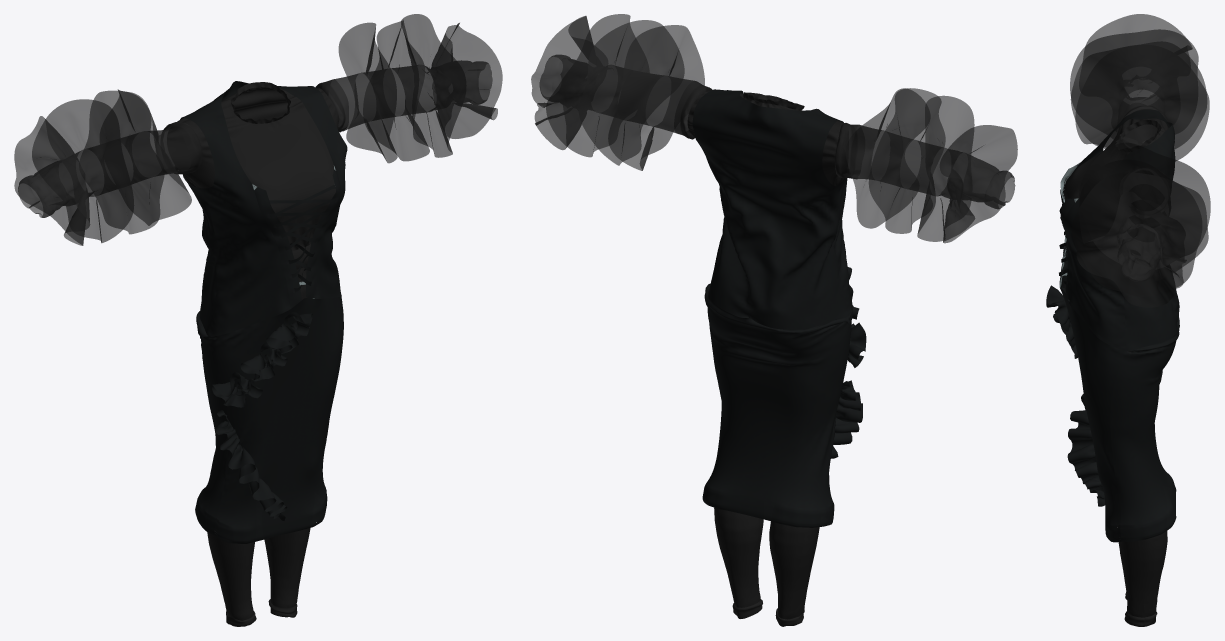
The model's file is G_clothe11_black.glb.
The picture shows the model from 3 angles, left to right: view 1: azimuth 30°, elevation 25°; view 2: azimuth 150°, elevation 25°; view 3: azimuth 270°, elevation 25°; orthographic projection. The views are drawn at different scales.
Visible parts, largest first — view 1: Garment; view 2: Garment; view 3: Garment.
Part boxes in pixels (x1=…): Garment: x1=14, y1=14, x2=502, y2=626; Garment: x1=531, y1=14, x2=1017, y2=626; Garment: x1=1046, y1=14, x2=1210, y2=626.
Size of the model in its own units: 1.23 by 1.43 by 0.4118.
1 material, 1 textured.
